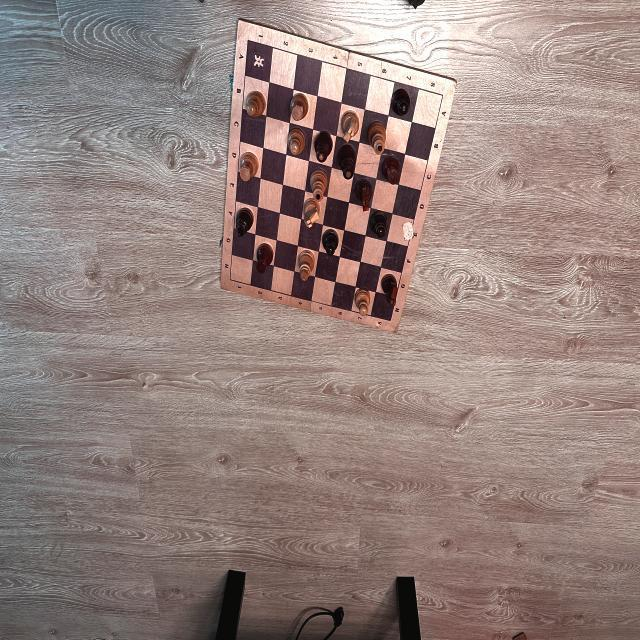chess-table-corners: (245, 36, 251, 44), (440, 92, 445, 100), (228, 276, 232, 283), (388, 318, 392, 324)
